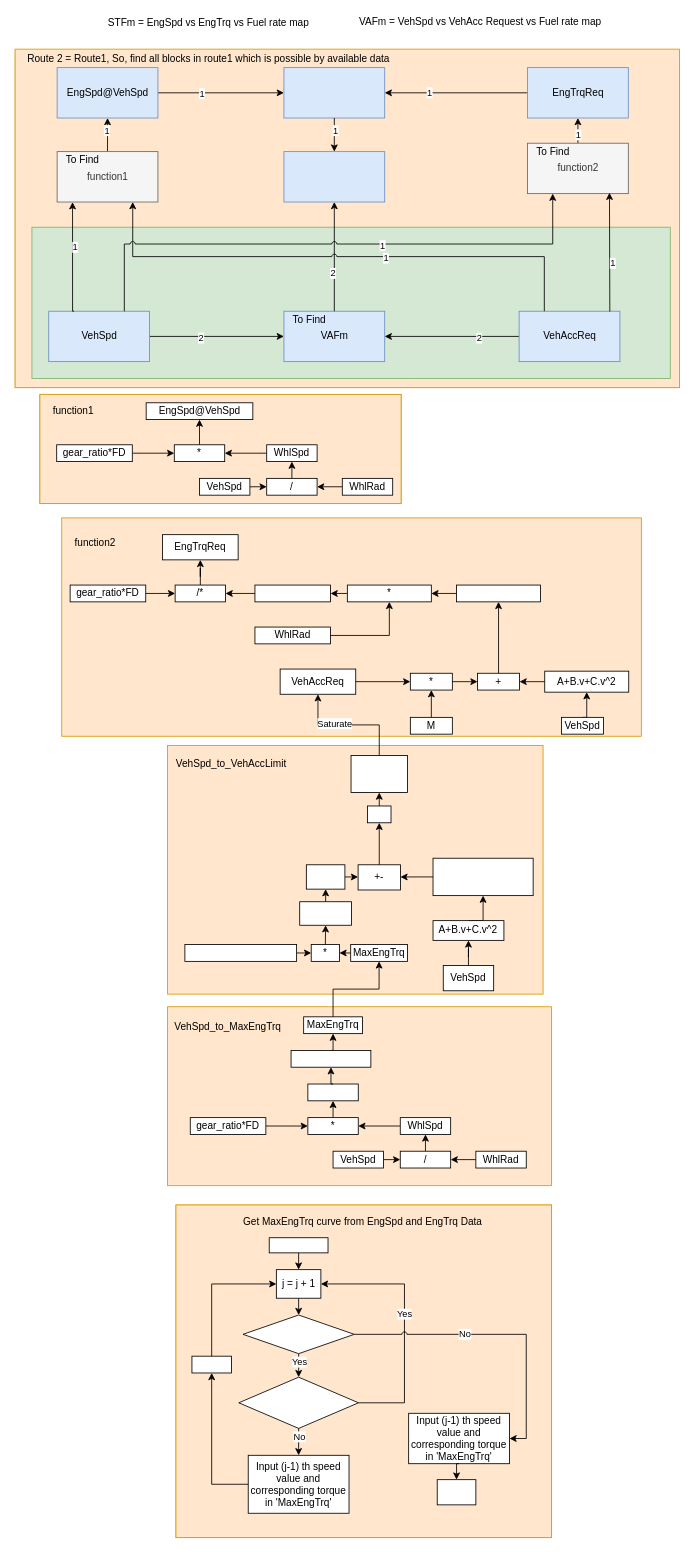
This 694x1552 diagram has some shape labels left out. Each missing label, with the box of its shape:
/M: (367, 805, 391, 823)
/WhlRad: (299, 901, 352, 925)
end: (436, 1479, 476, 1505)
EngSpd: (307, 1083, 358, 1101)
F_resistance: (432, 857, 533, 896)
F_trac: (306, 864, 345, 889)
F_tracReq: (456, 584, 541, 602)
fuel rate: (283, 151, 385, 202)
gear_ratio*FD/WhlRad: (184, 944, 297, 961)
i = 0, j = 0: (268, 1237, 328, 1253)
i = j: (191, 1355, 231, 1373)
j < rows of data set: (242, 1314, 354, 1354)
MaxEngTrqCurve: (290, 1050, 371, 1067)
Speed at j = Speed at i: (238, 1376, 359, 1428)
STFm: (283, 67, 385, 118)
VehAccLimit: (350, 755, 407, 793)
WhlTrqReq: (254, 584, 331, 602)
